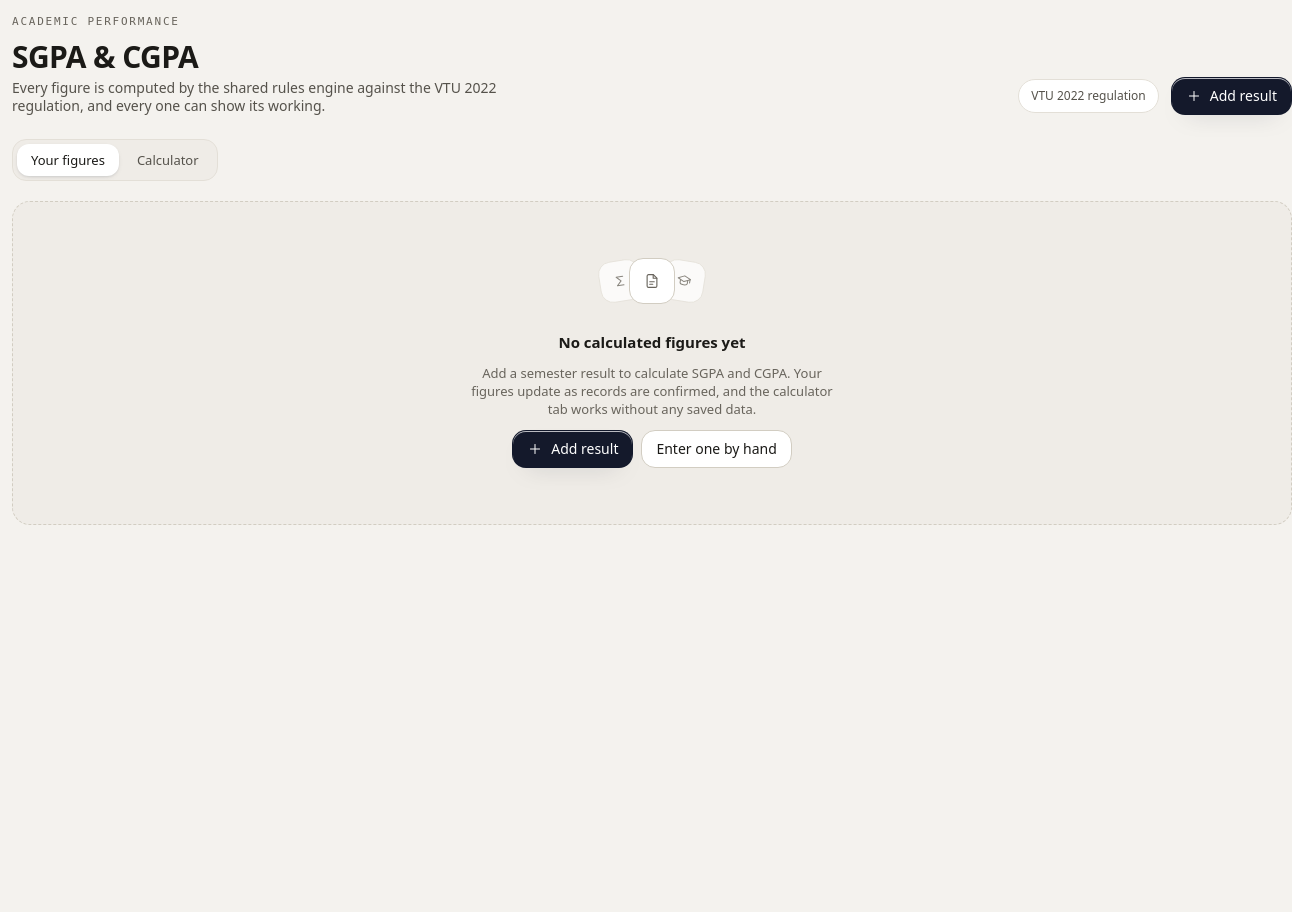
Test: SGPA calculator › computes from entered credits and grades
The width and height of the screenshot is (1292, 912).
Click the tab "Calculator" at [168, 160], box 123,144 -> 213,176
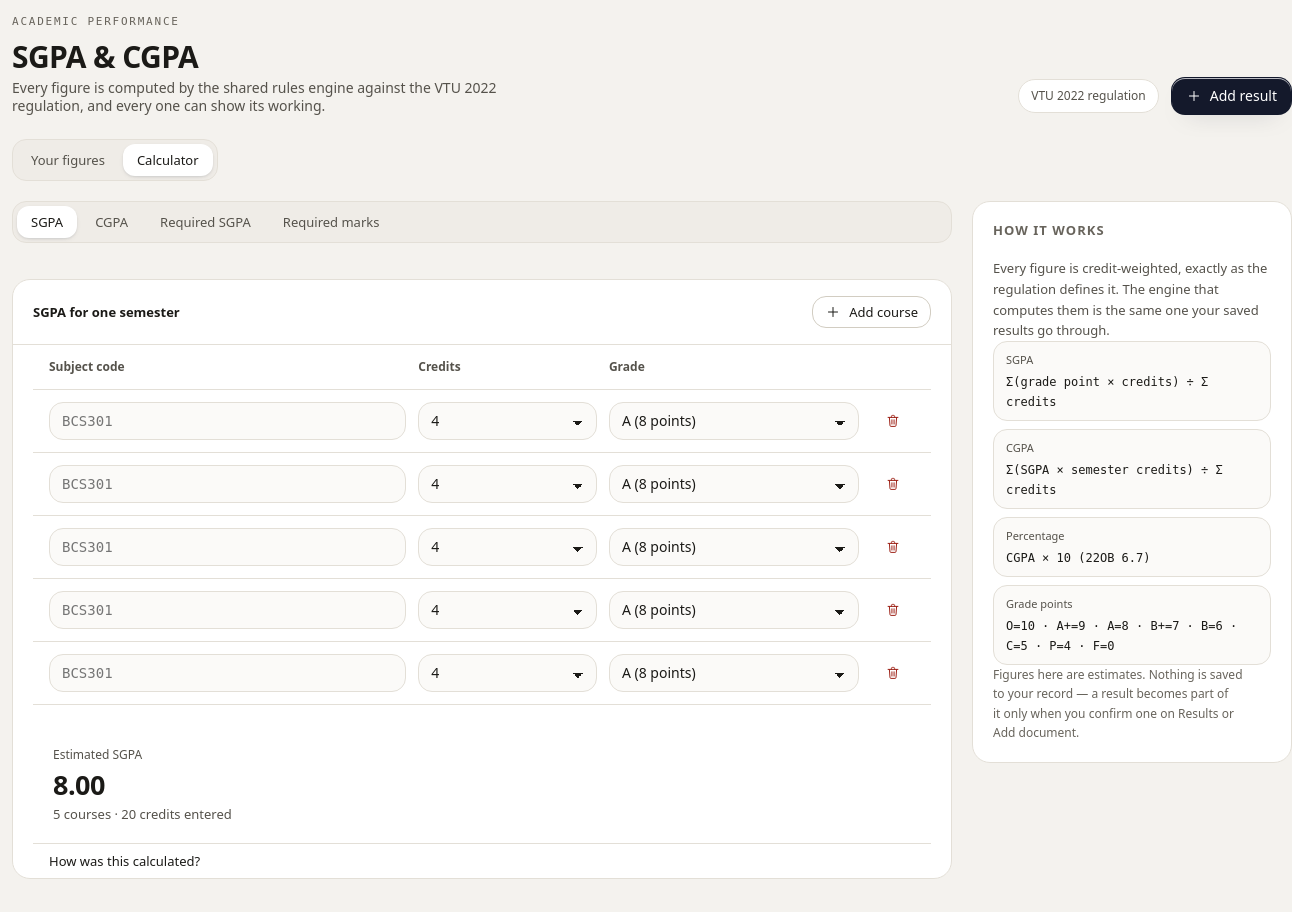
Select "4" in the 1st dropdown named "credits, course 1" at [508, 421], box 418,402 -> 597,440
Select "A (8 points)" in the 2nd dropdown named "grade, course 1" at [734, 421], box 609,402 -> 859,440
Select "4" in the 3rd dropdown named "credits, course 2" at [508, 484], box 418,465 -> 597,503
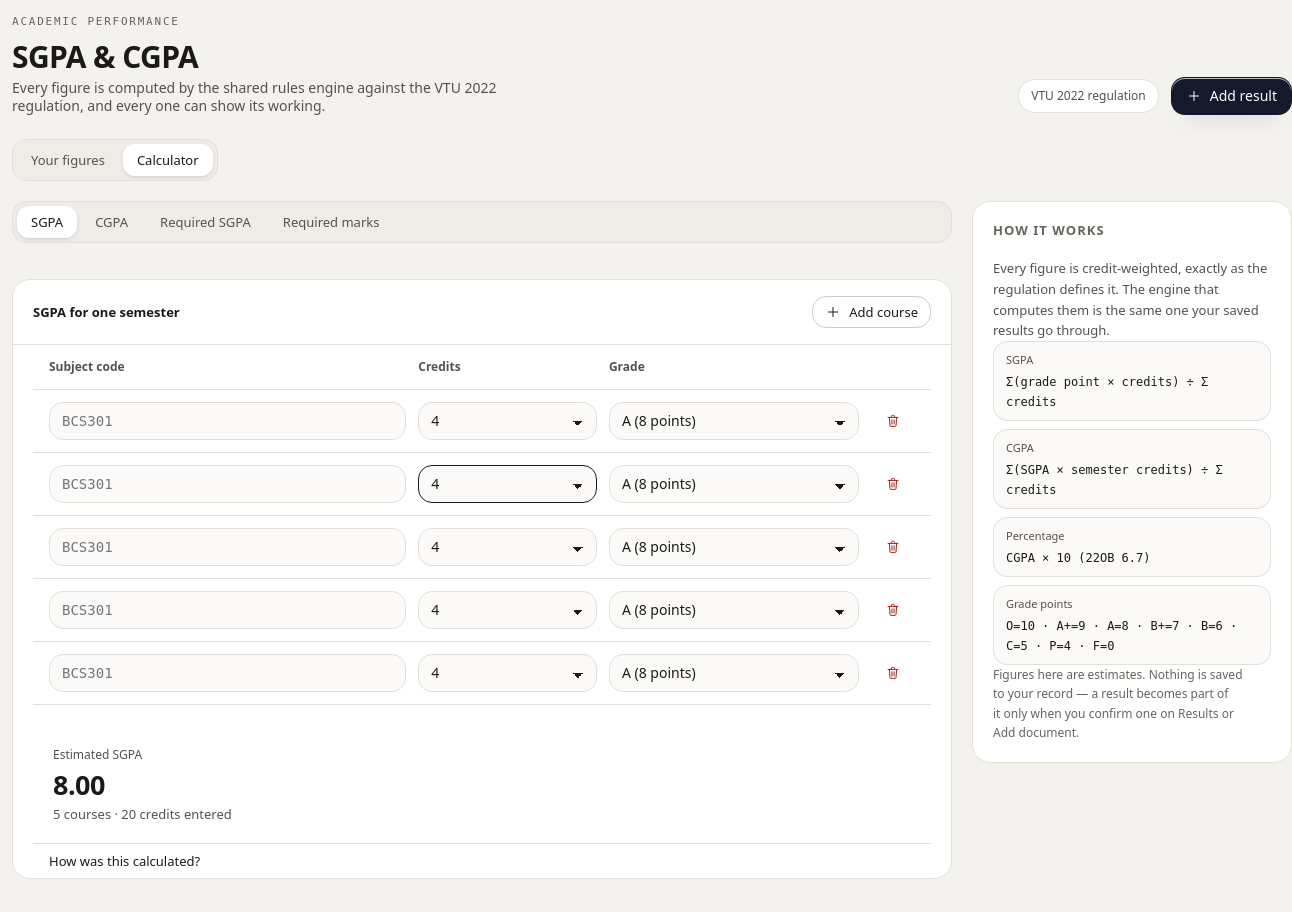
Select "A+ (9 points)" in the 4th dropdown named "grade, course 2" at [734, 484], box 609,465 -> 859,503
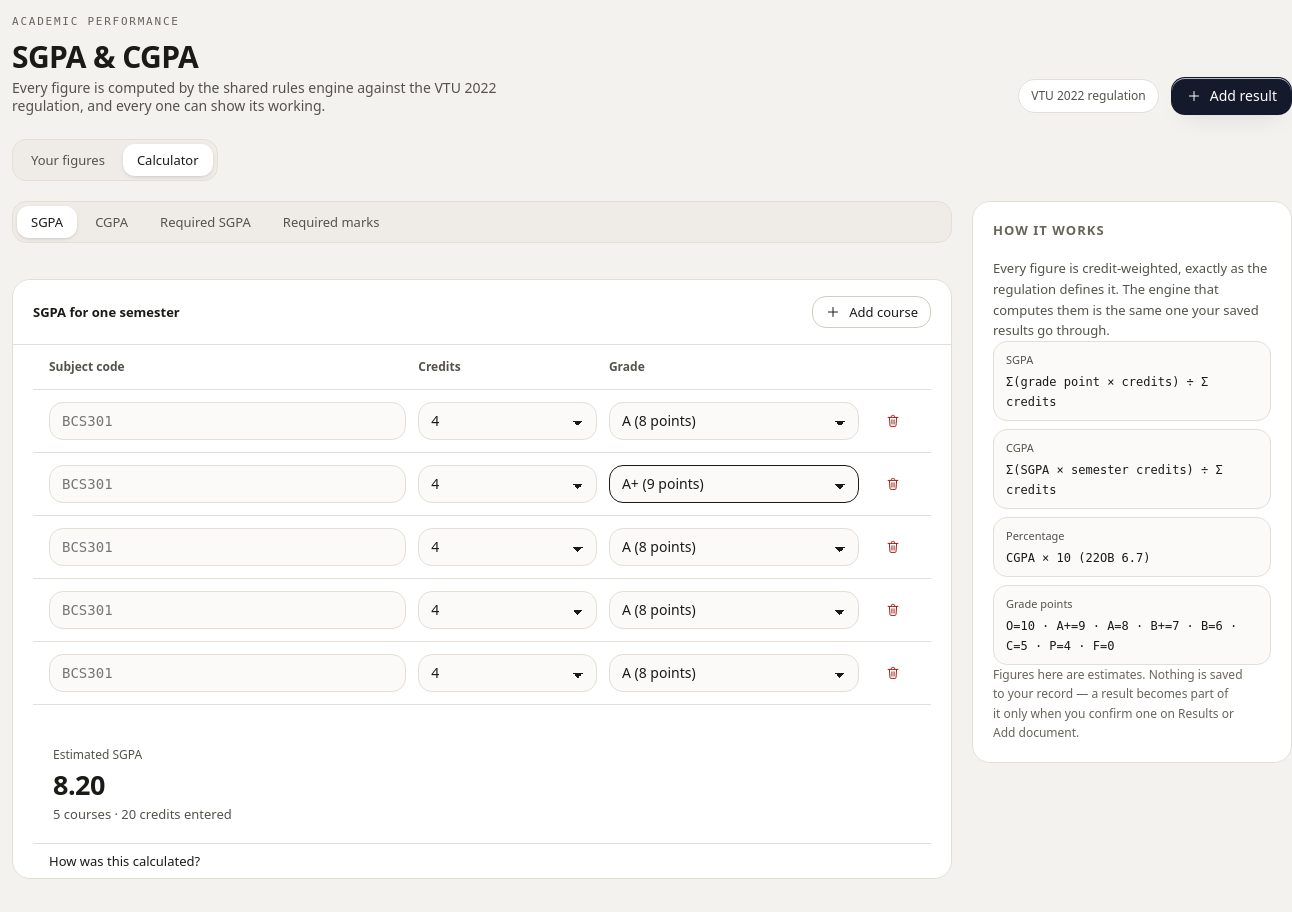
Click the button named "remove course 3" at [893, 547], box 871,528 -> 915,566
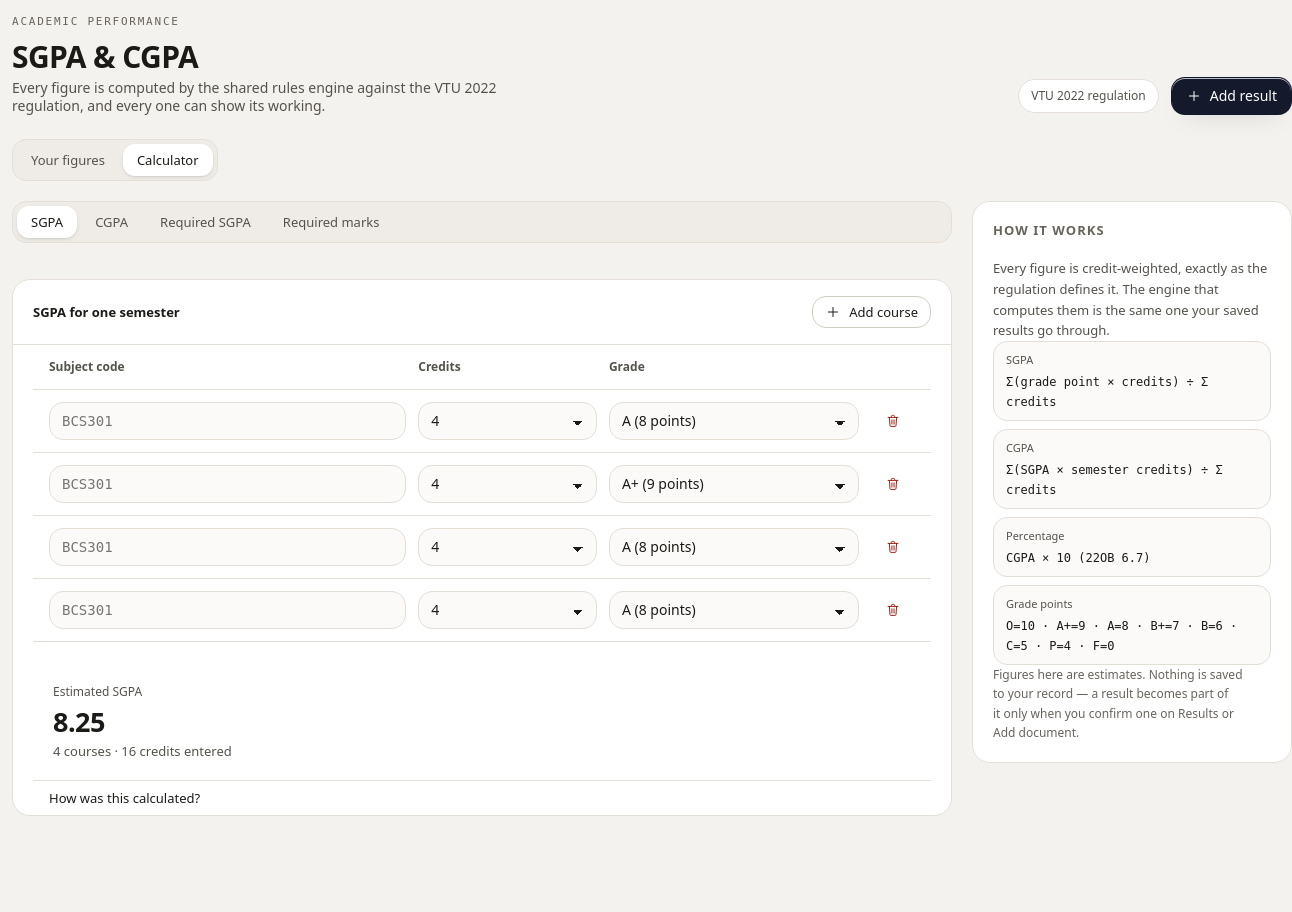
Click the button named "remove course 3" at [893, 547], box 871,528 -> 915,566
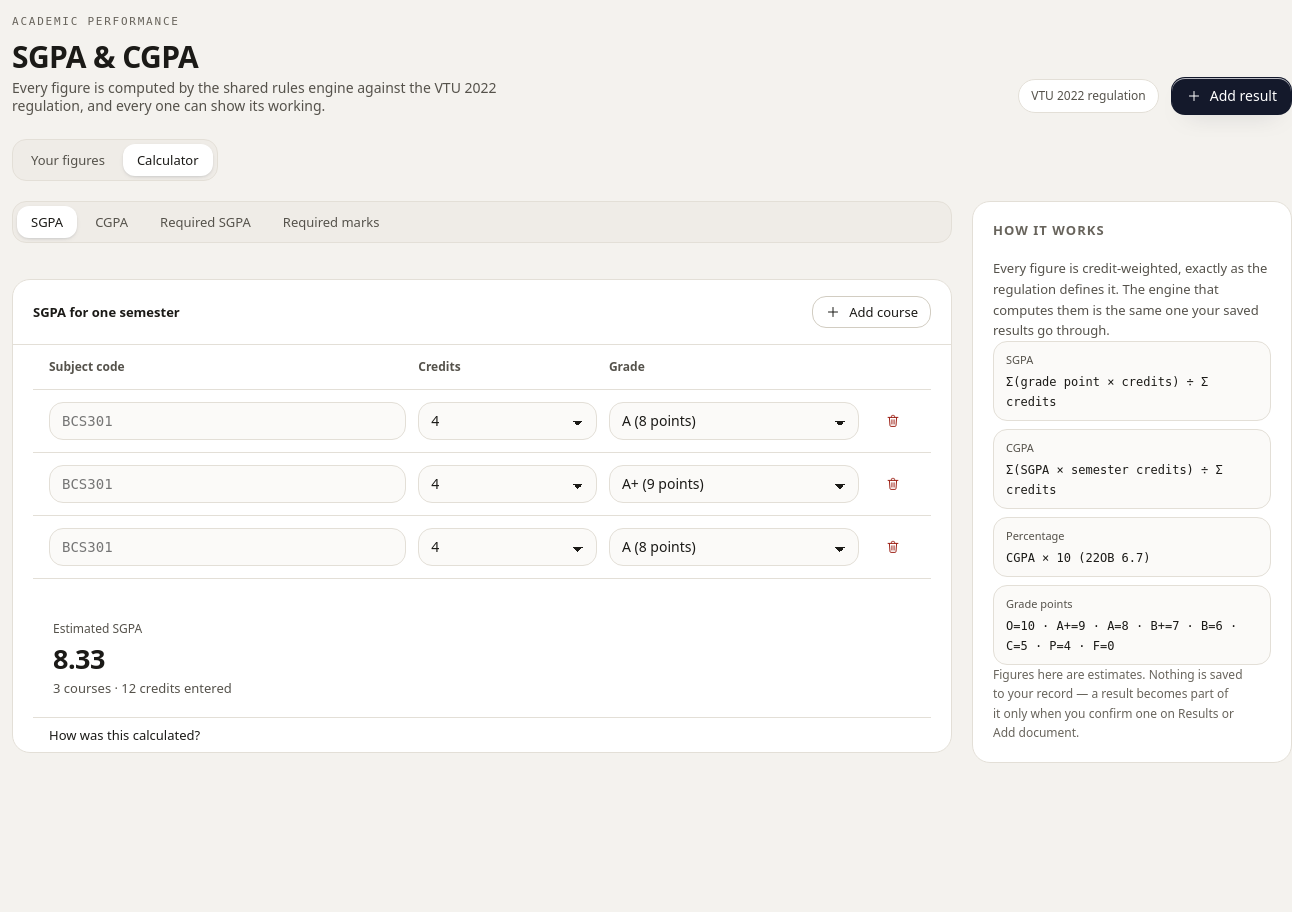
Click the button named "remove course 3" at [893, 547], box 871,528 -> 915,566
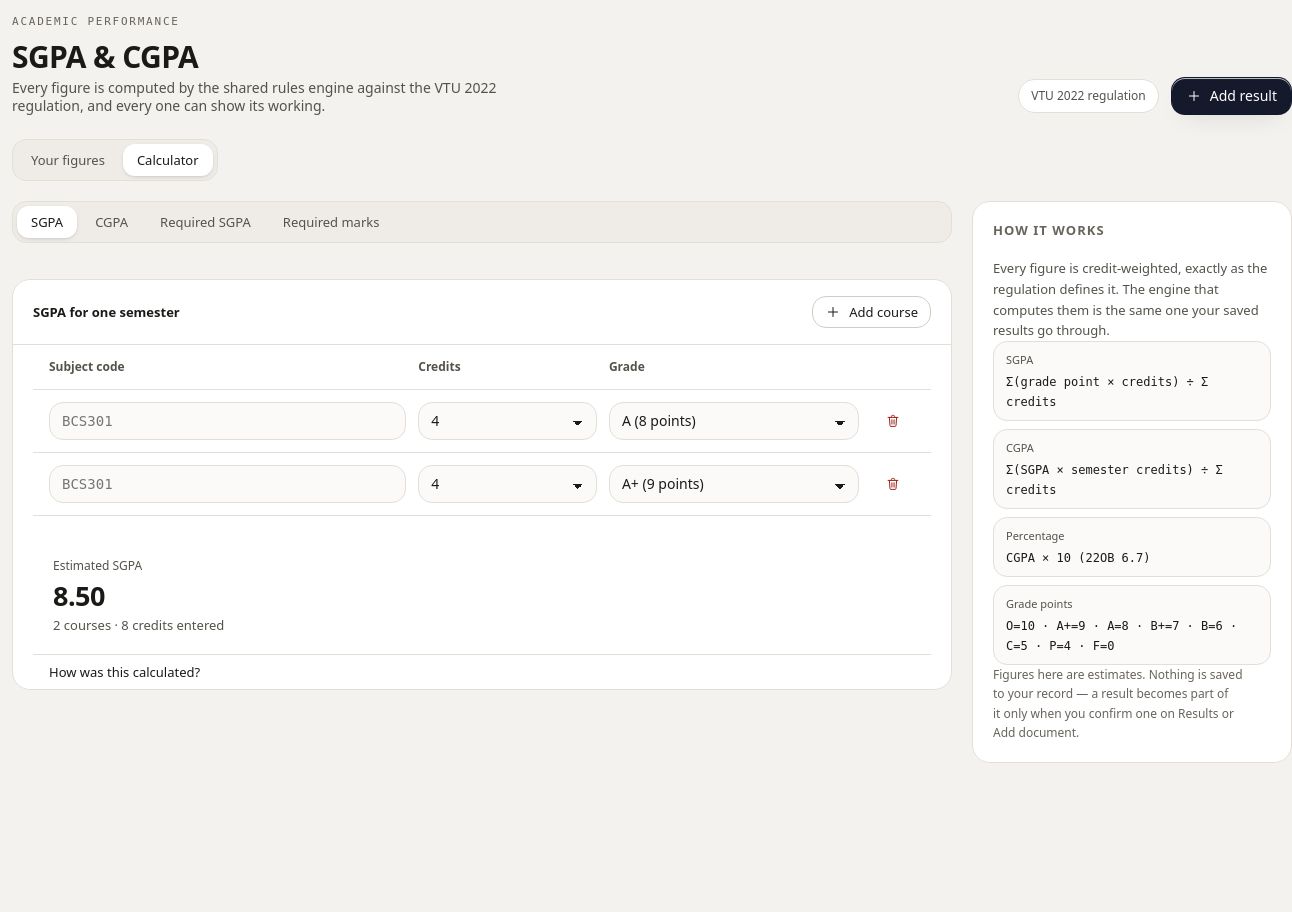
Expected: the text "8.50" is shown, 53,577 -> 105,614
